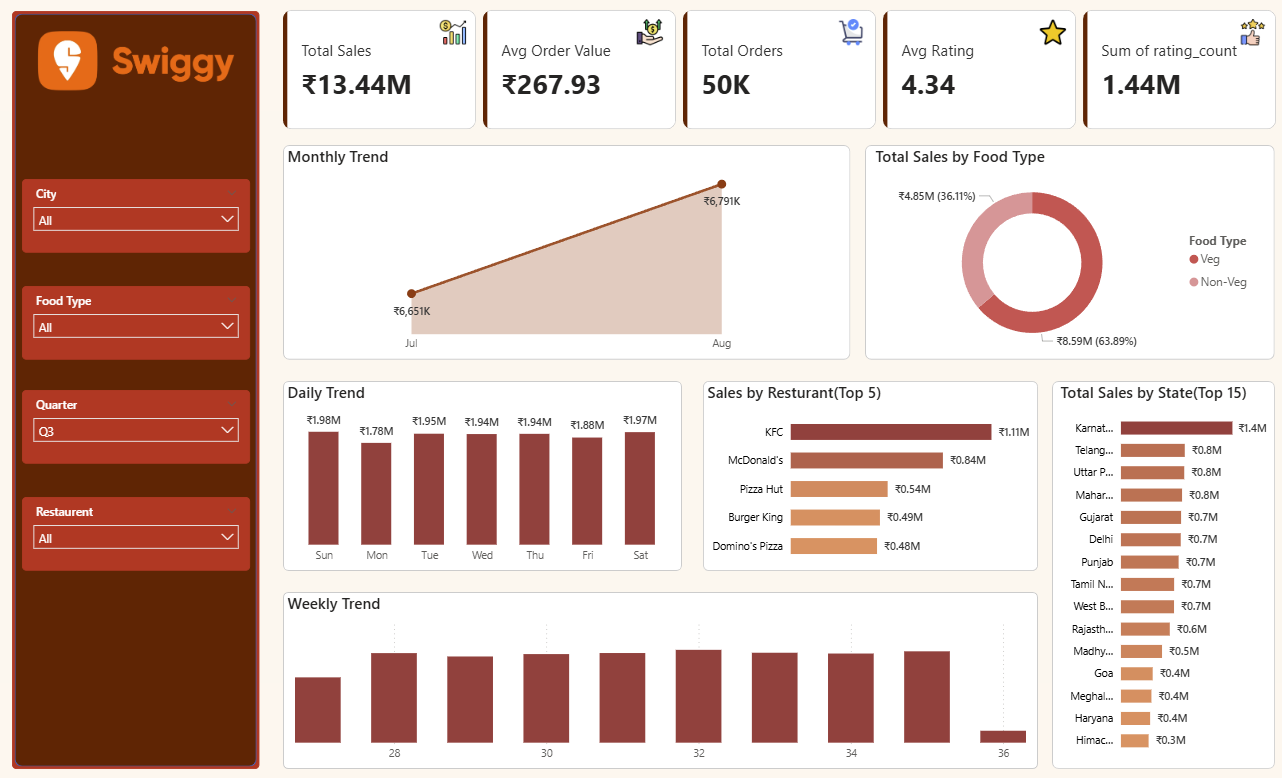

The dashboard page shown, as its layout file describes it:
{"tool":"powerbi","page":{"name":"Swiggy_Report","canvas":[1500,900],"ordinal":0},"visuals":[{"type":"shape","box":[40.2,17.8,281.8,864.2],"z":0},{"type":"cardVisual","fields":{"Data":["swiggy_project fact_orders.Total Sales","swiggy_project fact_orders.Avg Order Value","swiggy_project fact_orders.Total Orders","Avg(swiggy_project fact_orders.rating)","Sum(swiggy_project fact_orders.rating_count)"]},"box":[331.7,0,1168.3,171],"z":1000},{"type":"image","box":[525.8,27.4,33.4,29.8],"z":2000},{"type":"image","box":[750,27.4,33.4,29.8],"z":3000},{"type":"image","box":[978.9,27.4,33.4,29.8],"z":4000},{"type":"image","box":[1209.1,27.4,33.4,29.8],"z":5000},{"type":"image","box":[1436.8,27.4,33.4,29.8],"z":6000},{"type":"image","box":[51.3,27.4,259.9,95.4],"z":7000},{"type":"shape","box":[348.7,171.4,646.6,244.7],"z":8000},{"type":"areaChart","title":"Monthly Trend","fields":{"Category":["swiggy_project dim_date.Month"],"Y":["swiggy_project fact_orders.Total Sales"]},"box":[348.7,171.4,646.6,244.7],"z":9000},{"type":"shape","box":[1011.8,171.4,466.9,244.7],"z":10000},{"type":"donutChart","fields":{"Category":["swiggy_project dim_dish.Food Type"],"Y":["swiggy_project fact_orders.Total Sales"]},"box":[1019,171,451.4,245.1],"z":11000},{"type":"shape","box":[348.8,440,454.8,216.6],"z":12000},{"type":"columnChart","title":"Daily Trend","fields":{"Category":["swiggy_project dim_date.Day"],"Y":["swiggy_project fact_orders.Total Sales"]},"box":[348.8,440,454.8,216.6],"z":13000},{"type":"shape","box":[827.5,440,381.8,216.6],"z":14000},{"type":"barChart","title":"Sales by Resturant(Top 5)","fields":{"Category":["swiggy_project dim_restaurant.restaurant_name"],"Y":["swiggy_project fact_orders.Total Sales"]},"box":[827.5,440,381.8,216.6],"z":15000},{"type":"shape","box":[1225.3,440,254.2,442.2],"z":16000},{"type":"barChart","title":"Total Sales by State(Top 15)","fields":{"Category":["swiggy_project dim_location (1).state"],"Y":["swiggy_project fact_orders.Total Sales"]},"box":[1229.9,440,245.1,433.1],"z":17000},{"type":"shape","box":[348.8,680.5,860.6,201.8],"z":18000},{"type":"columnChart","title":"Weekly Trend","fields":{"Category":["swiggy_project dim_date.Week Number"],"Y":["swiggy_project fact_orders.Total Sales"]},"box":[348.8,680.5,860.6,201.8],"z":19000},{"type":"slicer","fields":{"Values":["swiggy_project dim_location (1).city"]},"box":[51.3,209.7,259.9,84.3],"z":20000},{"type":"slicer","fields":{"Values":["swiggy_project dim_dish.Food Type"]},"box":[51.3,331.7,259.9,84.3],"z":20001},{"type":"slicer","fields":{"Values":["swiggy_project dim_date.Quarter"]},"box":[51.3,450.2,259.9,84.3],"z":20002},{"type":"slicer","fields":{"Values":["swiggy_project dim_location (1).city"]},"box":[51.3,572.2,259.9,84.3],"z":20003}]}

Visuals, with their boxes in screenshot pixels (x1, y1, x2, y2), scaled from the page's 1500x900 canvas onto the 1282x778 screenshot:
shape: rect(34, 15, 275, 762)
cardVisual - swiggy_project fact_orders.Total Sales x swiggy_project fact_orders.Avg Order Value: rect(283, 0, 1281, 148)
image: rect(449, 24, 478, 49)
image: rect(641, 24, 670, 49)
image: rect(837, 24, 865, 49)
image: rect(1033, 24, 1062, 49)
image: rect(1228, 24, 1257, 49)
image: rect(44, 24, 266, 106)
shape: rect(298, 148, 851, 360)
"Monthly Trend" areaChart: rect(298, 148, 851, 360)
shape: rect(865, 148, 1264, 360)
donutChart - swiggy_project dim_dish.Food Type x swiggy_project fact_orders.Total Sales: rect(871, 148, 1257, 360)
shape: rect(298, 380, 687, 568)
"Daily Trend" columnChart: rect(298, 380, 687, 568)
shape: rect(707, 380, 1034, 568)
"Sales by Resturant(Top 5)" barChart: rect(707, 380, 1034, 568)
shape: rect(1047, 380, 1264, 763)
"Total Sales by State(Top 15)" barChart: rect(1051, 380, 1261, 755)
shape: rect(298, 588, 1034, 763)
"Weekly Trend" columnChart: rect(298, 588, 1034, 763)
slicer - swiggy_project dim_location (1).city: rect(44, 181, 266, 254)
slicer - swiggy_project dim_dish.Food Type: rect(44, 287, 266, 360)
slicer - swiggy_project dim_date.Quarter: rect(44, 389, 266, 462)
slicer - swiggy_project dim_location (1).city: rect(44, 495, 266, 568)
